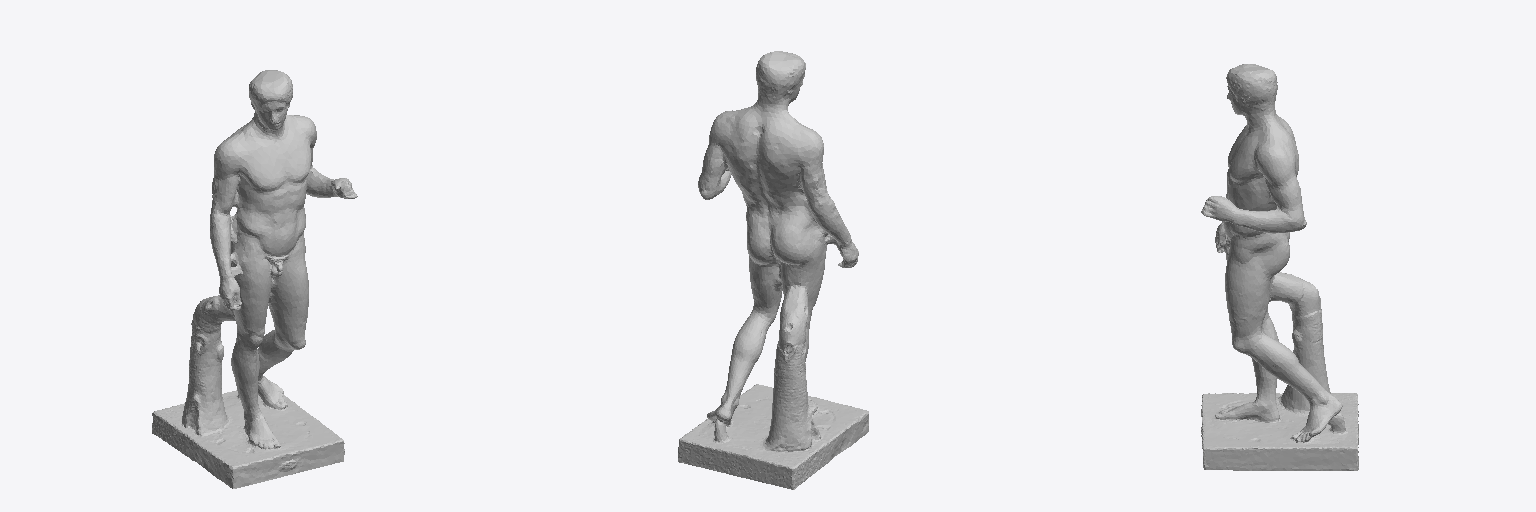
Rendered from modeloman.obj.
The picture shows the model from 3 angles: view 1: azimuth 30°, elevation 25°; view 2: azimuth 150°, elevation 25°; view 3: azimuth 270°, elevation 25°; orthographic projection.
Visible parts, largest first — view 1: Node_102468_Material_0_0; view 2: Node_102468_Material_0_0; view 3: Node_102468_Material_0_0.
Boxes of the visible parts, x1,y1,x2,y2 form: Node_102468_Material_0_0: [152, 70, 357, 488]; Node_102468_Material_0_0: [678, 51, 868, 489]; Node_102468_Material_0_0: [1201, 64, 1358, 470].
Bounding box in the file's own units: 0.3738 × 1.03 × 0.39.